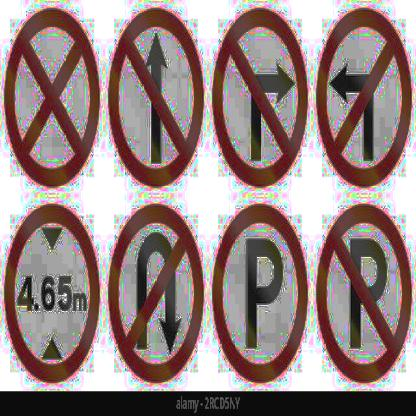No U-turn: (107, 193, 204, 390)
